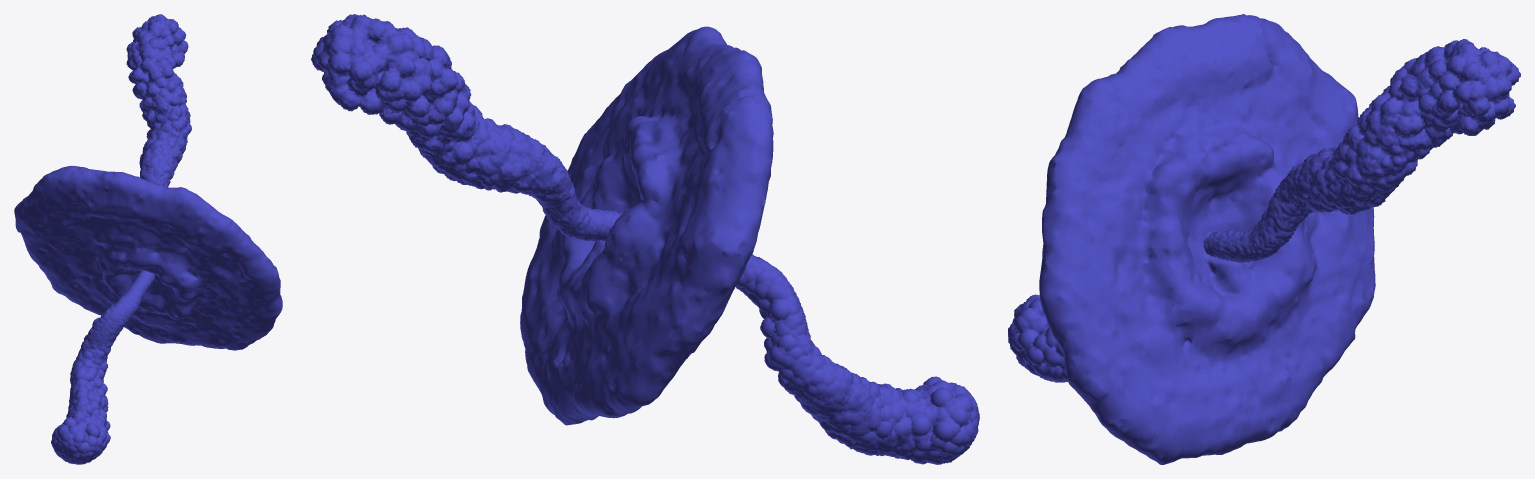
Rendered from crab-nebula.glb.
The picture shows the model from 3 angles, left to right: view 1: azimuth 30°, elevation 25°; view 2: azimuth 150°, elevation 25°; view 3: azimuth 270°, elevation 25°; orthographic projection. The views are drawn at different scales.
Visible parts, largest first — view 1: CrabNebulaXrayModel_OBJexport; view 2: CrabNebulaXrayModel_OBJexport; view 3: CrabNebulaXrayModel_OBJexport.
Part boxes in pixels (bbox=[...]): CrabNebulaXrayModel_OBJexport: bbox=[14, 14, 282, 464]; CrabNebulaXrayModel_OBJexport: bbox=[311, 14, 979, 464]; CrabNebulaXrayModel_OBJexport: bbox=[1008, 14, 1520, 464].
Bounding box in the file's own units: 171 × 190 × 178.
